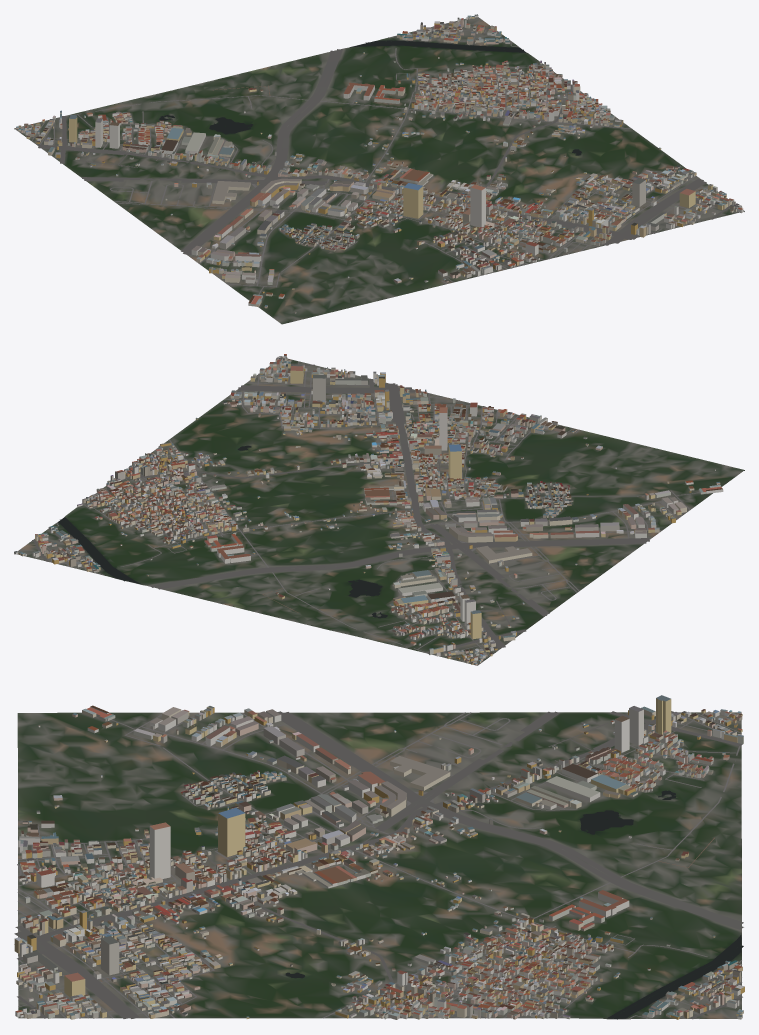
3 renders of one model, top to bottom at view 1: azimuth 30°, elevation 25°; view 2: azimuth 150°, elevation 25°; view 3: azimuth 270°, elevation 25°, orthographic. The views are drawn at different scales.
Parts seen in each view (by area): view 1: ground, buildings, roads, water; view 2: ground, buildings, roads, water; view 3: ground, buildings, roads, water.
Part boxes in pixels (left/top/right/bottom): ground: left=14, top=17, right=744, bottom=324; buildings: left=16, top=14, right=743, bottom=313; roads: left=30, top=23, right=731, bottom=294; water: left=159, top=40, right=581, bottom=155; ground: left=14, top=358, right=744, bottom=665; buildings: left=14, top=354, right=723, bottom=665; roads: left=30, top=361, right=698, bottom=658; water: left=58, top=445, right=387, bottom=618; ground: left=17, top=712, right=741, bottom=1019; buildings: left=14, top=695, right=744, bottom=1019; roads: left=14, top=711, right=743, bottom=1019; water: left=285, top=790, right=743, bottom=1019.
Bounding box in the file's own units: 1425 × 114 × 1416.
